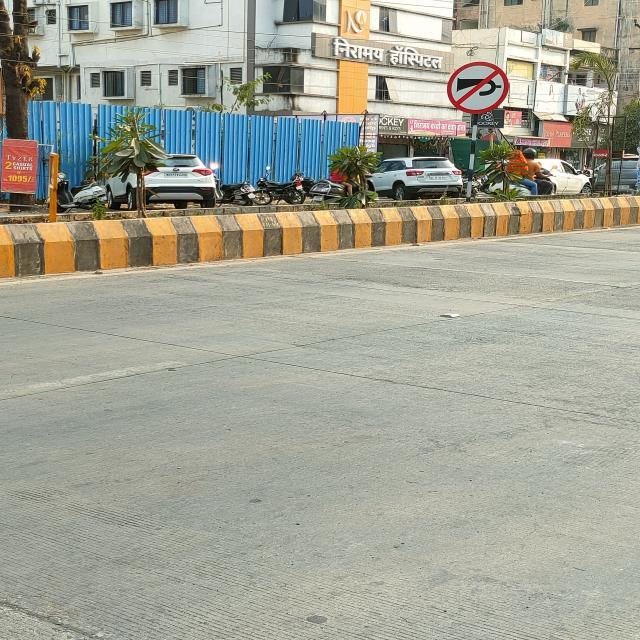horn prohibited: (447, 60, 510, 115)
